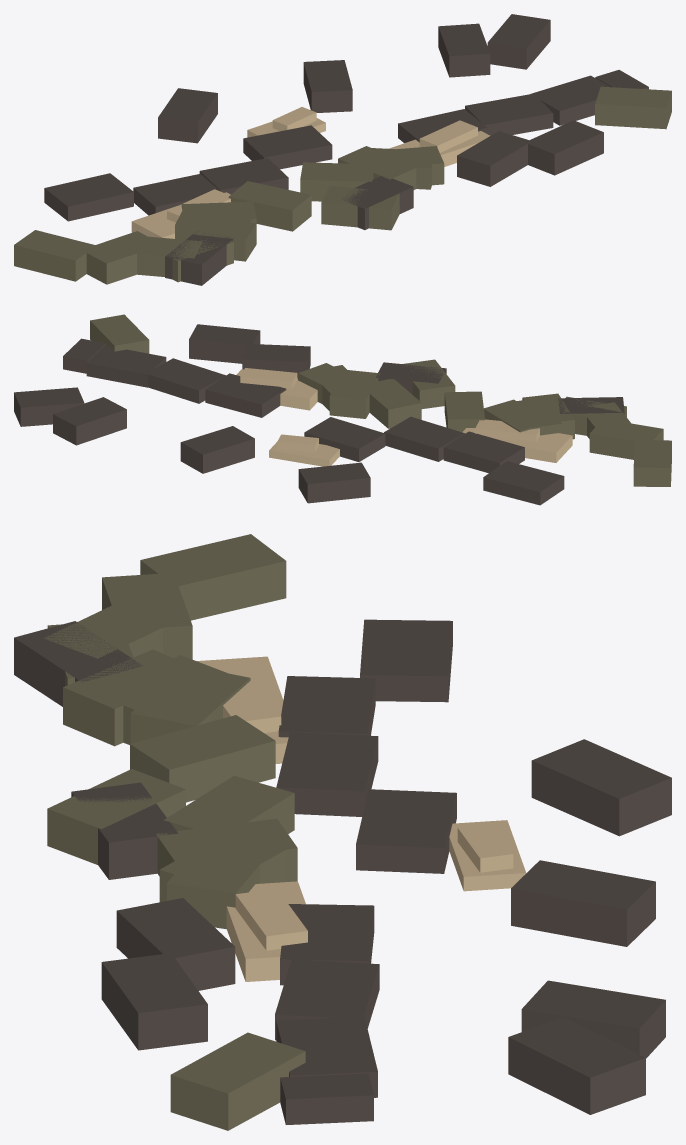
The model's file is SM_MuroSacos_v1_Talud_e3_Brecha_LOD0.fbx.
The picture shows the model from 3 angles, top to bottom: view 1: azimuth 30°, elevation 25°; view 2: azimuth 150°, elevation 25°; view 3: azimuth 270°, elevation 25°; orthographic projection. The views are drawn at different scales.
Parts seen in each view (by area): view 1: SM_bloques.muro_sacos_estados_v7_LOD0; view 2: SM_bloques.muro_sacos_estados_v7_LOD0; view 3: SM_bloques.muro_sacos_estados_v7_LOD0.
Boxes of the visible parts, box(x1,y1,x2,y2) form: SM_bloques.muro_sacos_estados_v7_LOD0: box(14, 14, 671, 285); SM_bloques.muro_sacos_estados_v7_LOD0: box(14, 314, 671, 505); SM_bloques.muro_sacos_estados_v7_LOD0: box(14, 534, 671, 1130).
Bounding box in the file's own units: 8.36 × 0.26 × 4.16.
